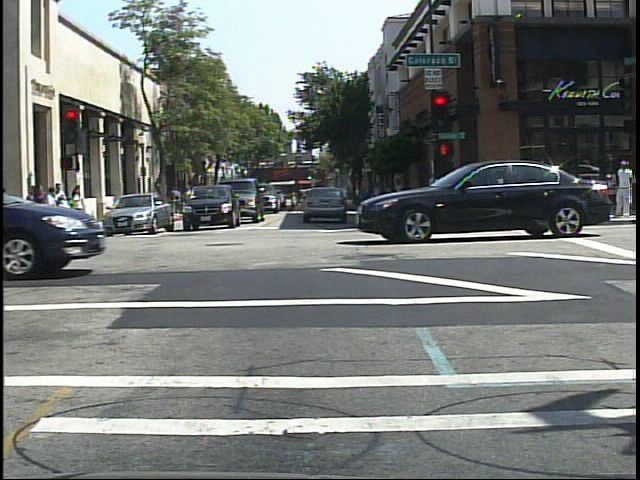person: (612, 157, 638, 222), (170, 185, 182, 216)
